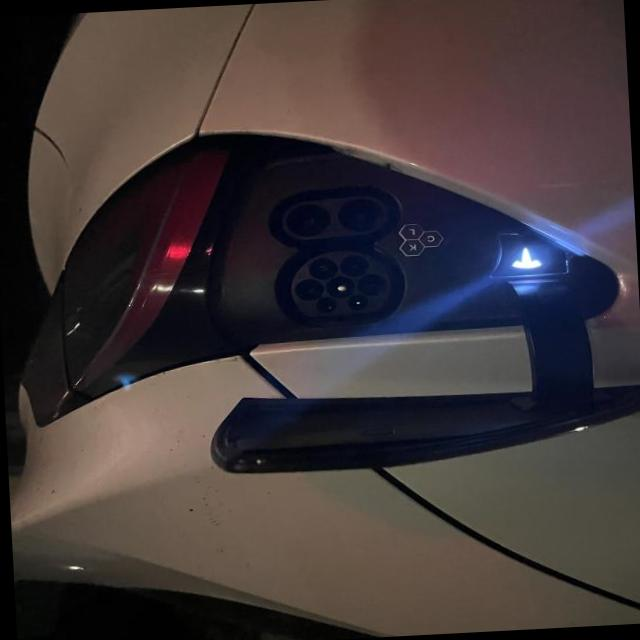inlet: (290, 251, 390, 316)
inlet-above-left: (347, 294, 368, 309)
inlet-above-right: (316, 297, 336, 312)
inlet-below-left: (339, 255, 368, 276)
inlet-below-right: (308, 257, 336, 279)
inlet-center: (325, 275, 354, 298)
inlet-center-left: (356, 274, 386, 295)
inlet-center-right: (294, 278, 324, 300)
